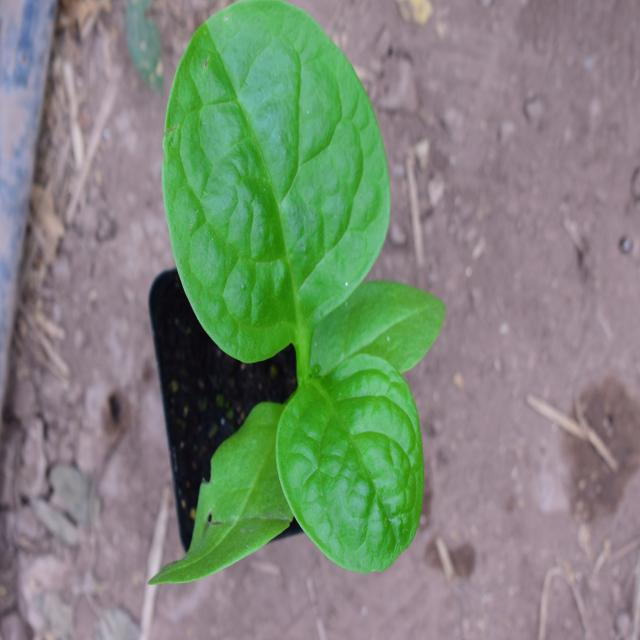Ceylon spinach: (150, 5, 458, 580)
